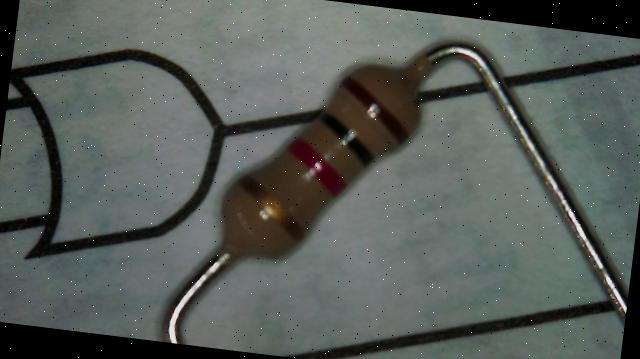black: (316, 112, 379, 166)
brown: (335, 74, 417, 144)
gold: (233, 174, 312, 244)
red: (282, 136, 352, 196)
resistor: (187, 27, 470, 294)
